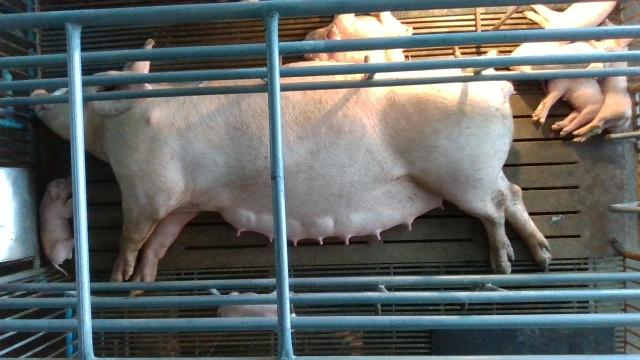piglet: (574, 18, 634, 142), (302, 13, 411, 63), (532, 75, 604, 138), (39, 176, 75, 277), (218, 290, 297, 335), (509, 39, 607, 72), (522, 1, 619, 26)
sow-sleep-lactate: (30, 39, 551, 296)
